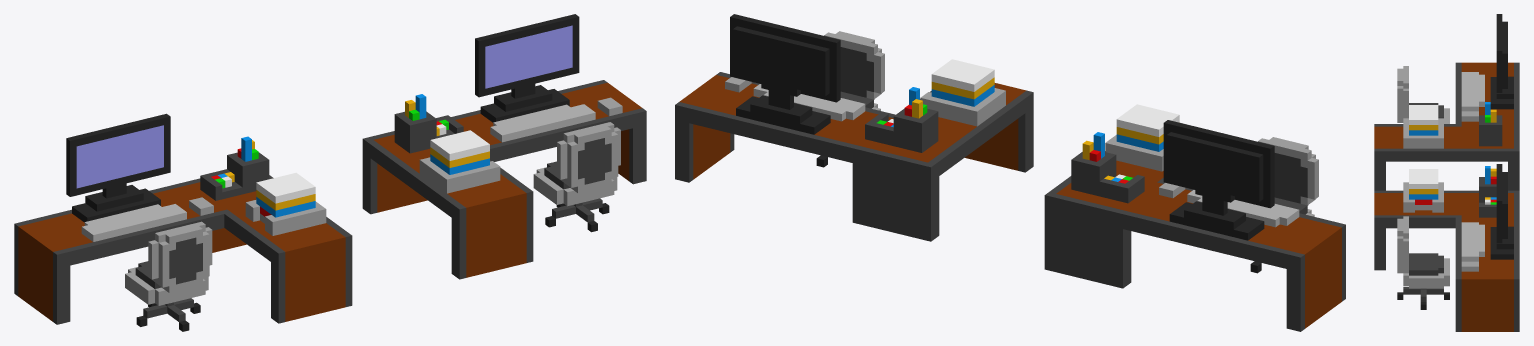
The model's file is MesasEscritorio.obj.
The picture shows the model from 3 angles, left to right: view 1: azimuth 30°, elevation 25°; view 2: azimuth 150°, elevation 25°; view 3: azimuth 270°, elevation 25°; orthographic projection. The views are drawn at different scales.
Bounding box in the file's own units: 8.8 × 2.2 × 2.5.
1 material, 1 textured.
